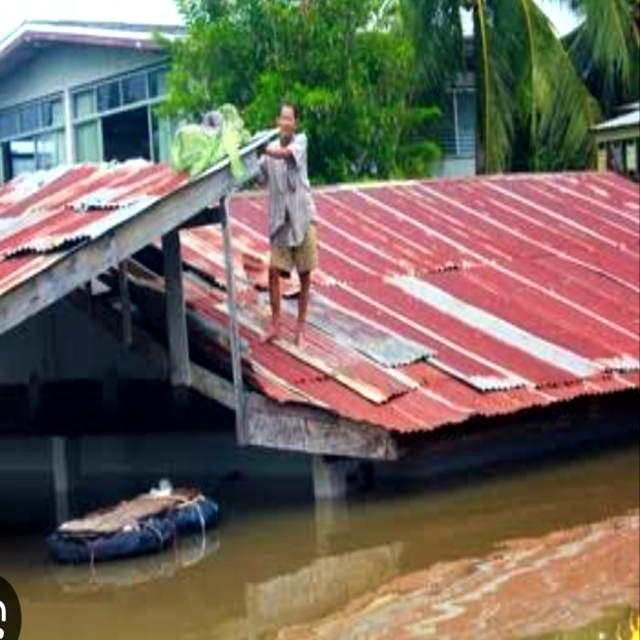civilian: (257, 85, 323, 350)
